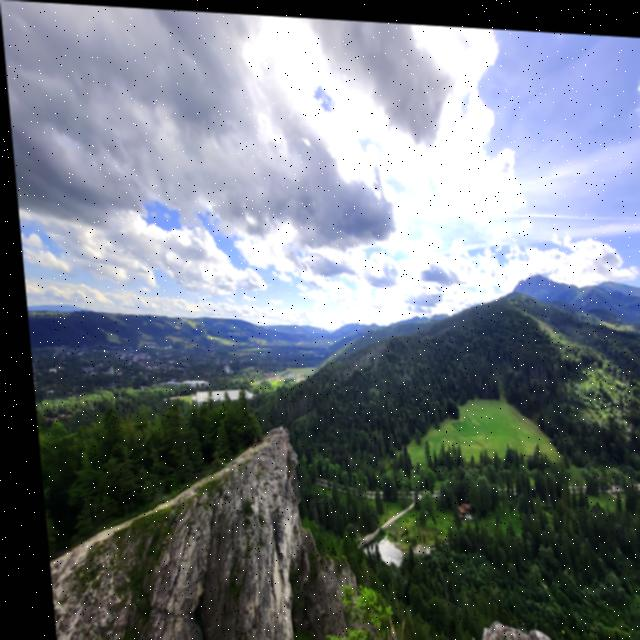Banikov: (386, 281, 447, 354)
Giewont: (486, 233, 580, 323)
Kopa Kondracka: (573, 243, 640, 322)
Suchy Wierch Ornaczanski: (403, 285, 476, 353)
Volovec: (391, 283, 458, 354)
